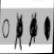correct: (43, 14, 51, 42)
not correct: (28, 6, 39, 50), (13, 10, 24, 53)
